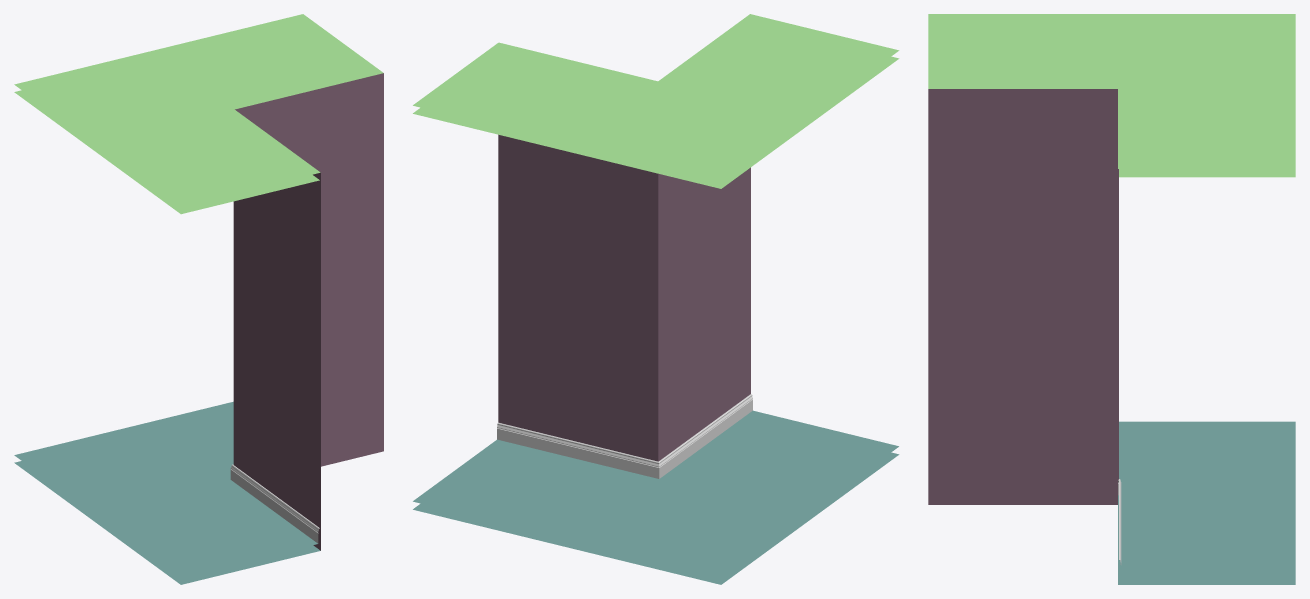
Rendered from Wall_1x1_corner_out.fbx.
The picture shows the model from 3 angles, left to right: view 1: azimuth 30°, elevation 25°; view 2: azimuth 150°, elevation 25°; view 3: azimuth 270°, elevation 25°; orthographic projection. The views are drawn at different scales.
Visible parts, largest first — view 1: Wall_1x1_corner_out; view 2: Wall_1x1_corner_out; view 3: Wall_1x1_corner_out.
Boxes of the visible parts, bbox=[...] form: Wall_1x1_corner_out: bbox=[14, 14, 383, 584]; Wall_1x1_corner_out: bbox=[413, 14, 899, 584]; Wall_1x1_corner_out: bbox=[928, 14, 1295, 584].
Bounding box in the file's own units: 2 × 2.5 × 2.
